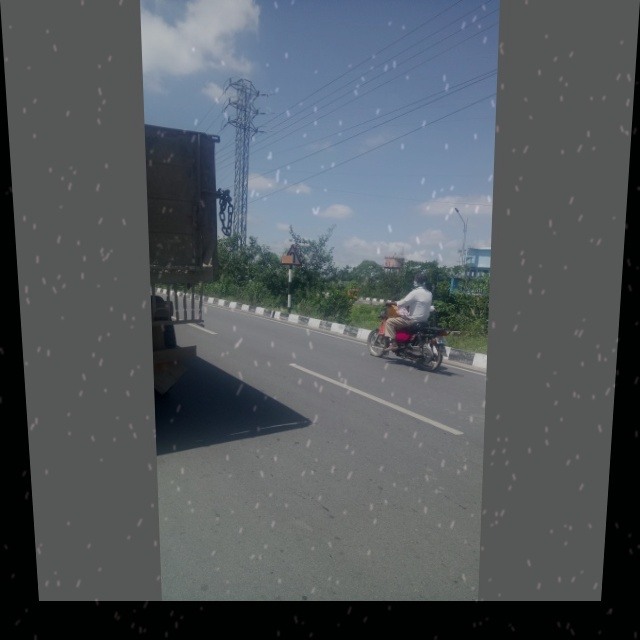U_Turn_Ahead: (278, 240, 307, 271)
